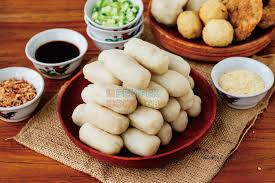Pempek lenjer: (97, 48, 150, 88), (81, 81, 139, 114), (72, 100, 131, 130), (122, 36, 167, 72), (80, 122, 120, 158), (122, 120, 160, 157), (127, 103, 165, 136), (83, 60, 123, 88), (153, 69, 190, 96), (160, 97, 181, 122), (172, 108, 190, 132), (190, 96, 204, 119)
